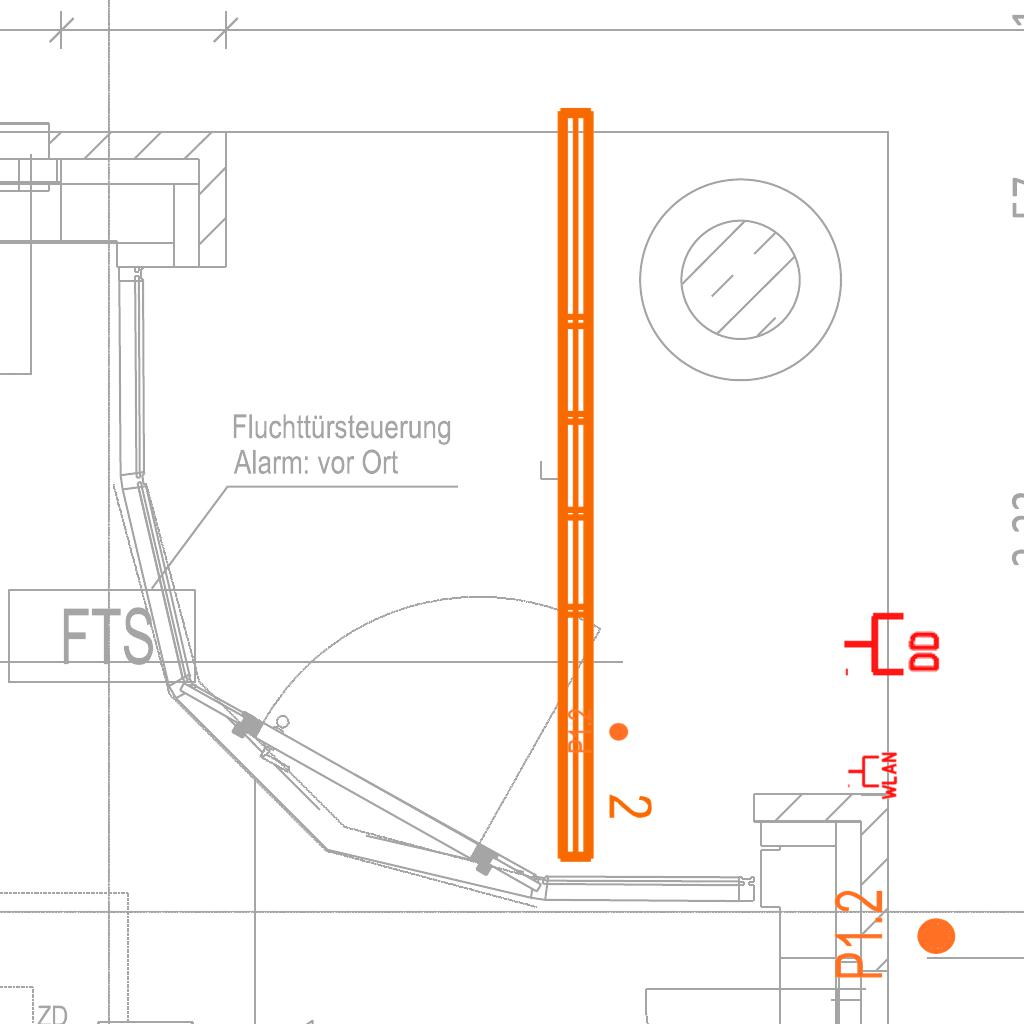Ambulanz_Pendelleuchte_LED: (545, 97, 657, 871)
Datenanschluss_zweifach: (841, 608, 944, 677)
Downlight_LED_Einbauleuchten_Flur: (831, 888, 959, 981), (566, 708, 630, 754)
WLAN: (846, 750, 898, 802)
